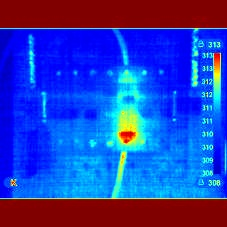High: (104, 106, 152, 151)
